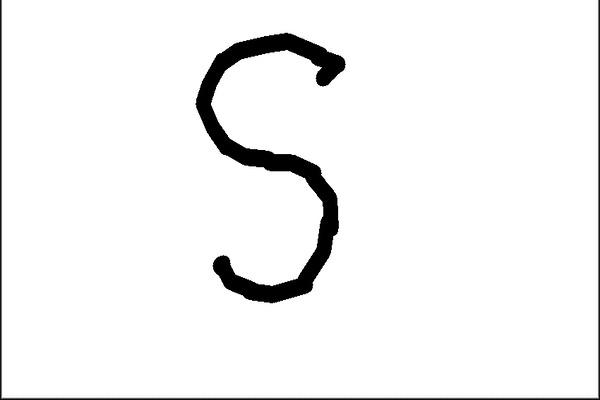S: (190, 27, 350, 308)
